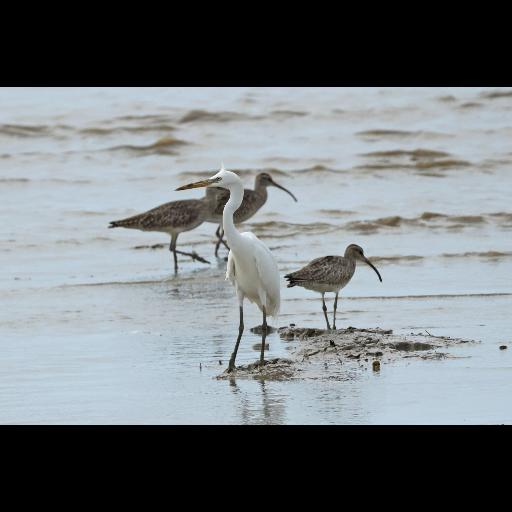chinese_egret: (173, 161, 281, 375)
